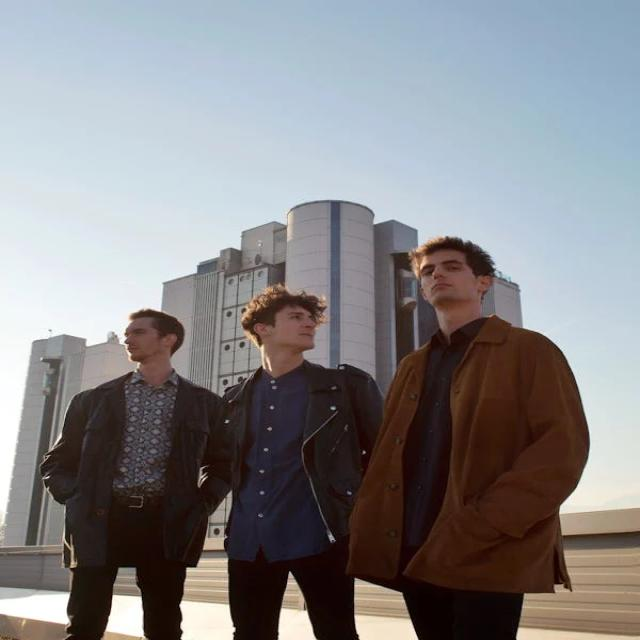Real human 2: (41, 229, 611, 640)
